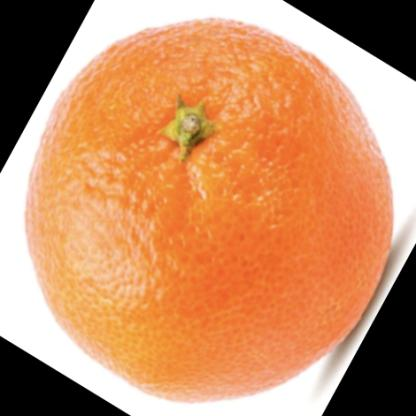fresh: (25, 18, 392, 401)
